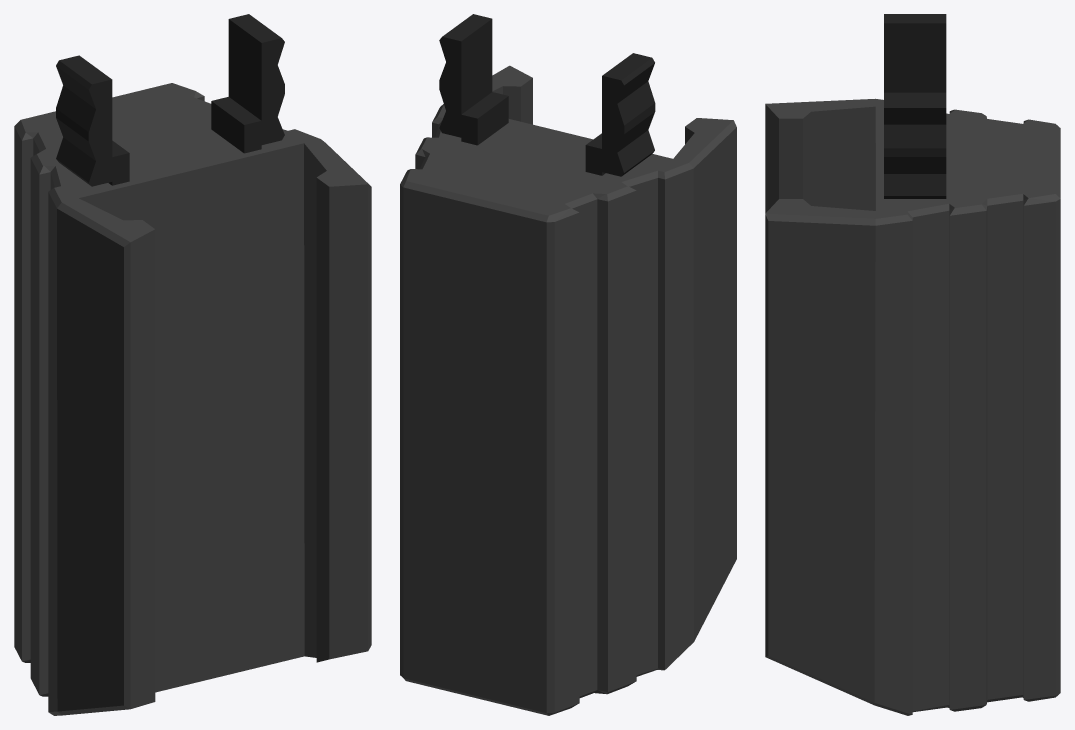
The model's file is SniperLaser.glb.
3 views of the same model, side by side, from view 1: azimuth 30°, elevation 25°; view 2: azimuth 150°, elevation 25°; view 3: azimuth 270°, elevation 25° (orthographic). The views are drawn at different scales.
Parts seen in each view (by area): view 1: SniperLaser; view 2: SniperLaser; view 3: SniperLaser.
Part boxes in pixels (x1,y1,x2,y2): SniperLaser: (14, 14, 371, 715); SniperLaser: (400, 14, 736, 715); SniperLaser: (765, 14, 1060, 715).
Bounding box in the file's own units: 0.8129 × 1.88 × 0.8157.
Materials: 1 (1 with a texture image).
